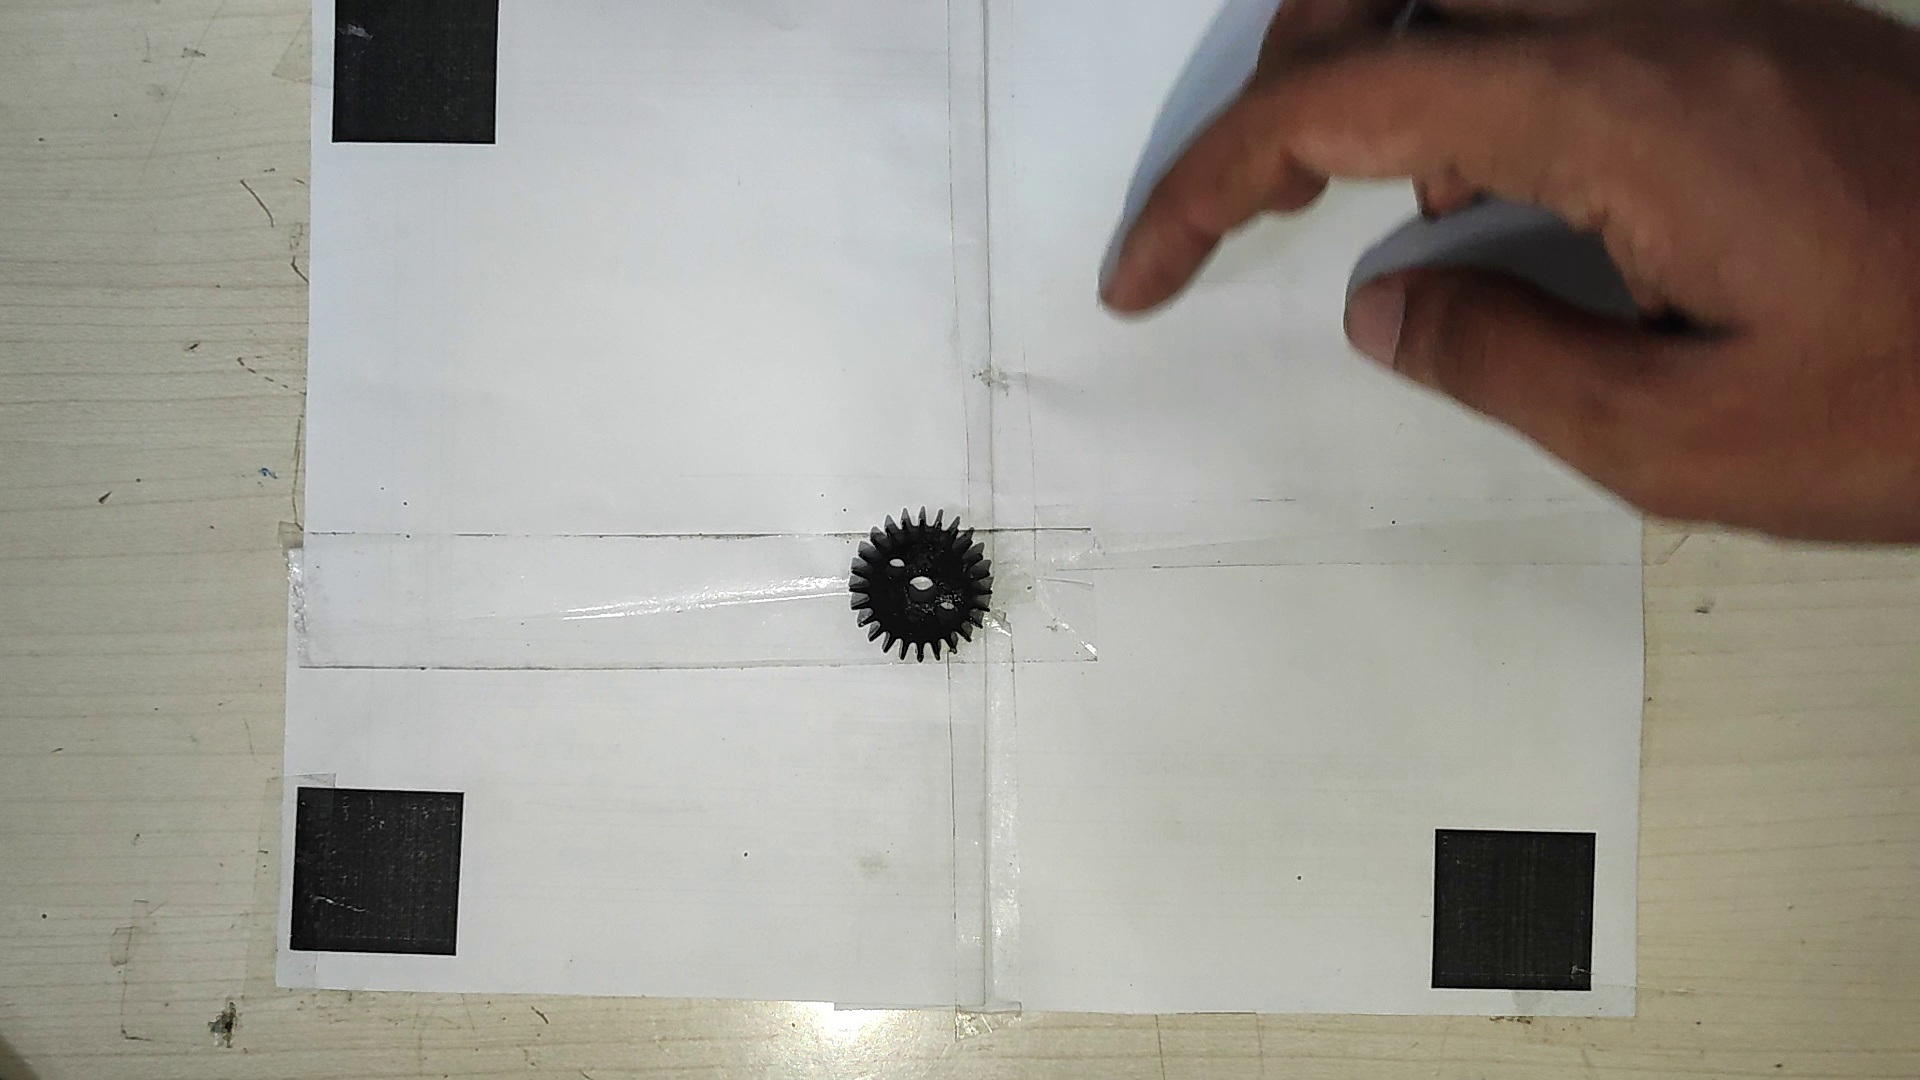Gear: (841, 506, 994, 665)
